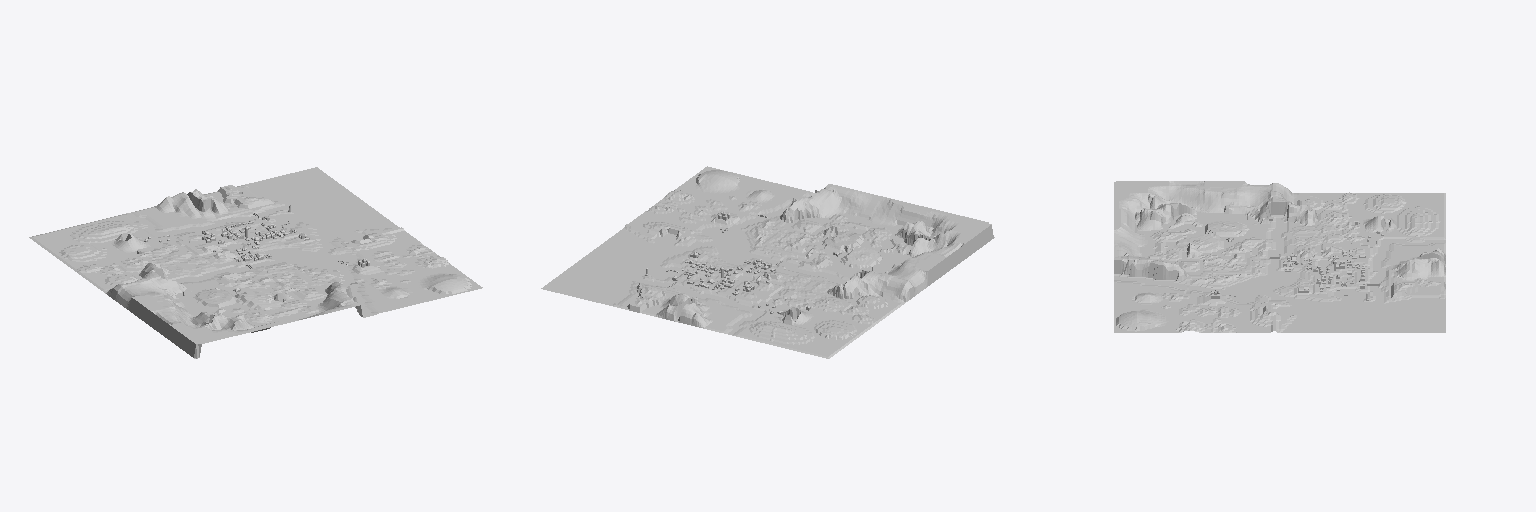
Rendered from OutC2.Odm.obj.
3 renders of one model, left to right at view 1: azimuth 30°, elevation 25°; view 2: azimuth 150°, elevation 25°; view 3: azimuth 270°, elevation 25°, orthographic.
Visible parts, largest first — view 1: _Ground_; view 2: _Ground_; view 3: _Ground_.
Part boxes in pixels (x1,y1,x2,y2): _Ground_: (29,167,482,358); _Ground_: (541,166,994,358); _Ground_: (1114,181,1445,332).
Size of the model in its own units: 65024 by 3072 by 65024.